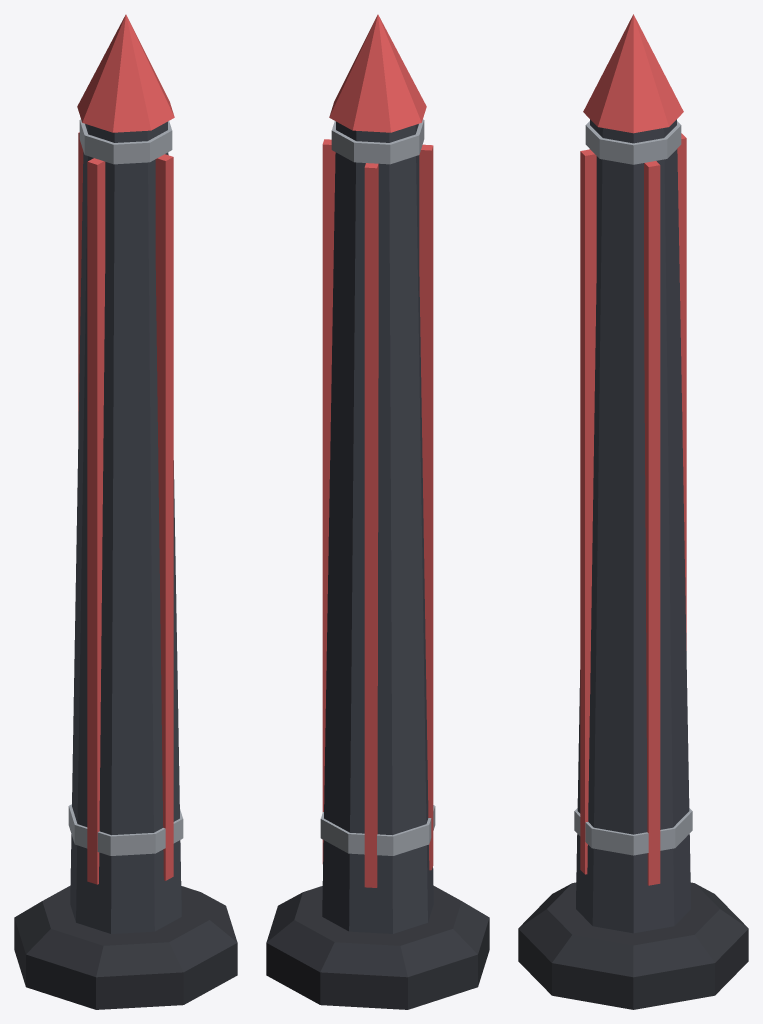
The model's file is BorderPylon.fbx.
3 views of the same model, side by side, from view 1: azimuth 30°, elevation 25°; view 2: azimuth 150°, elevation 25°; view 3: azimuth 270°, elevation 25° (orthographic).
Visible parts, largest first — view 1: BorderPylon_DarkMetal, BorderPylon_Accent, BorderPylon_Charcoal, BorderPylon_Metal; view 2: BorderPylon_DarkMetal, BorderPylon_Accent, BorderPylon_Charcoal, BorderPylon_Metal; view 3: BorderPylon_DarkMetal, BorderPylon_Accent, BorderPylon_Charcoal, BorderPylon_Metal.
Part boxes in pixels (x1,y1,x2,y2): BorderPylon_DarkMetal: (70, 121, 181, 933); BorderPylon_Accent: (77, 14, 174, 884); BorderPylon_Charcoal: (14, 885, 237, 1009); BorderPylon_Metal: (68, 119, 183, 855); BorderPylon_DarkMetal: (322, 121, 433, 933); BorderPylon_Accent: (322, 14, 433, 887); BorderPylon_Charcoal: (266, 885, 489, 1009); BorderPylon_Metal: (320, 119, 435, 855); BorderPylon_DarkMetal: (576, 119, 690, 933); BorderPylon_Accent: (580, 14, 686, 885); BorderPylon_Charcoal: (518, 882, 748, 1009); BorderPylon_Metal: (574, 121, 692, 855).
Bounding box in the file's own units: 6.4 × 29 × 6.4.
